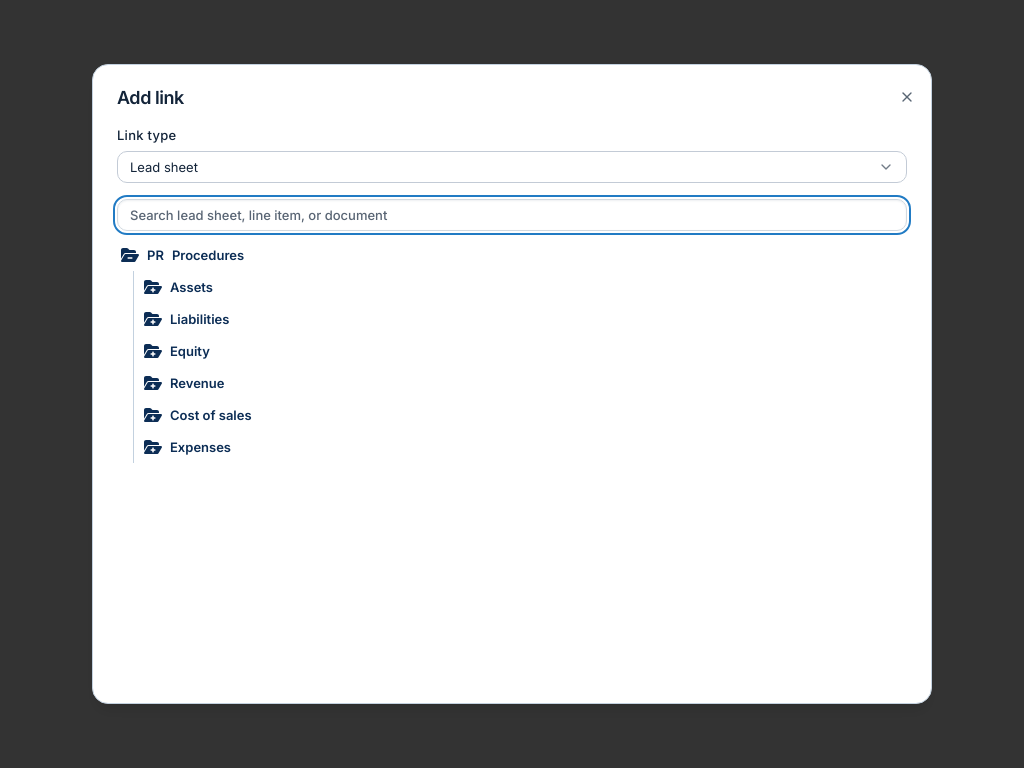
Test case: PdfAddLinkDialog consolidated link picker › keeps identical fixed width and height classes across all five link types, expansions, and empty searches
Earlier steps of the test are not shown.
Later steps or results of the test are not shown.
Click the button "Assets". click: [191, 287]
box: [140,271,903,303]
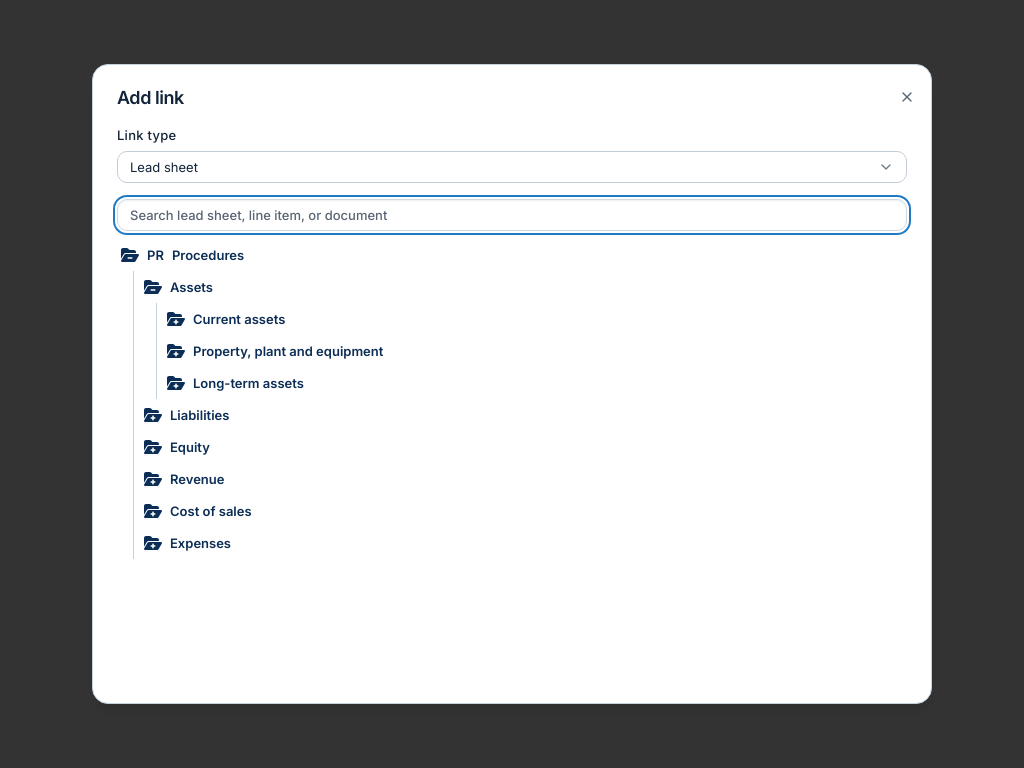
Click the button "Current assets". click: [239, 319]
box: [163,303,903,335]
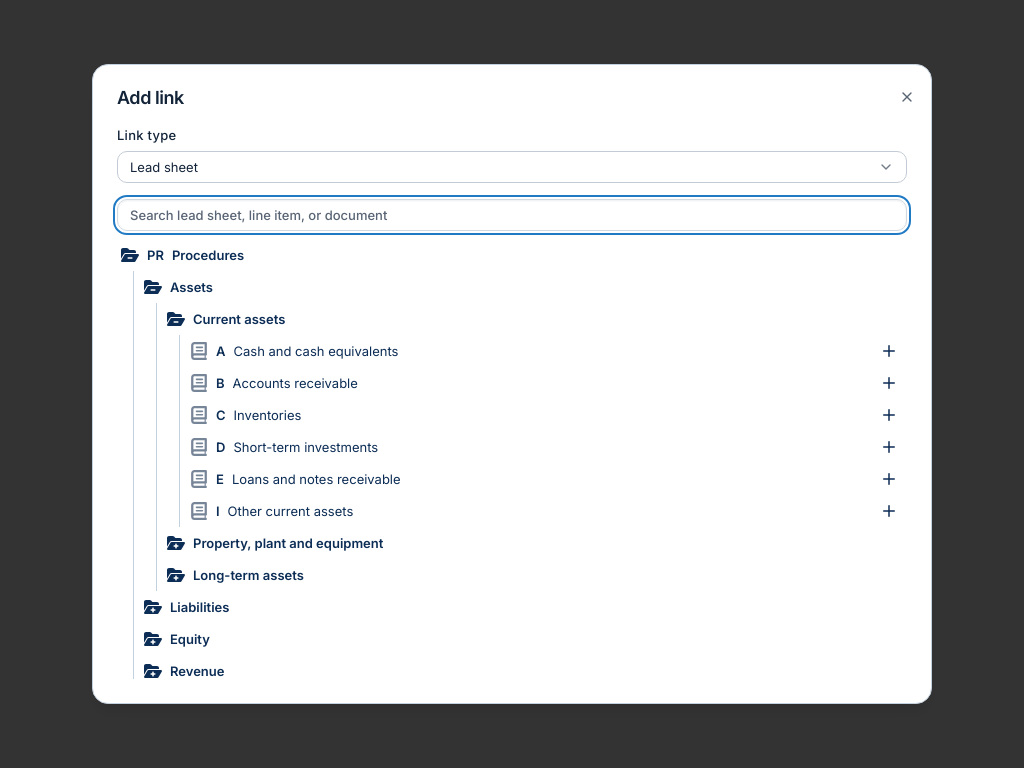
Type "zzzz-no-match" into the field named "Search lead sheets". click: [512, 215]
box: [117,199,907,231]
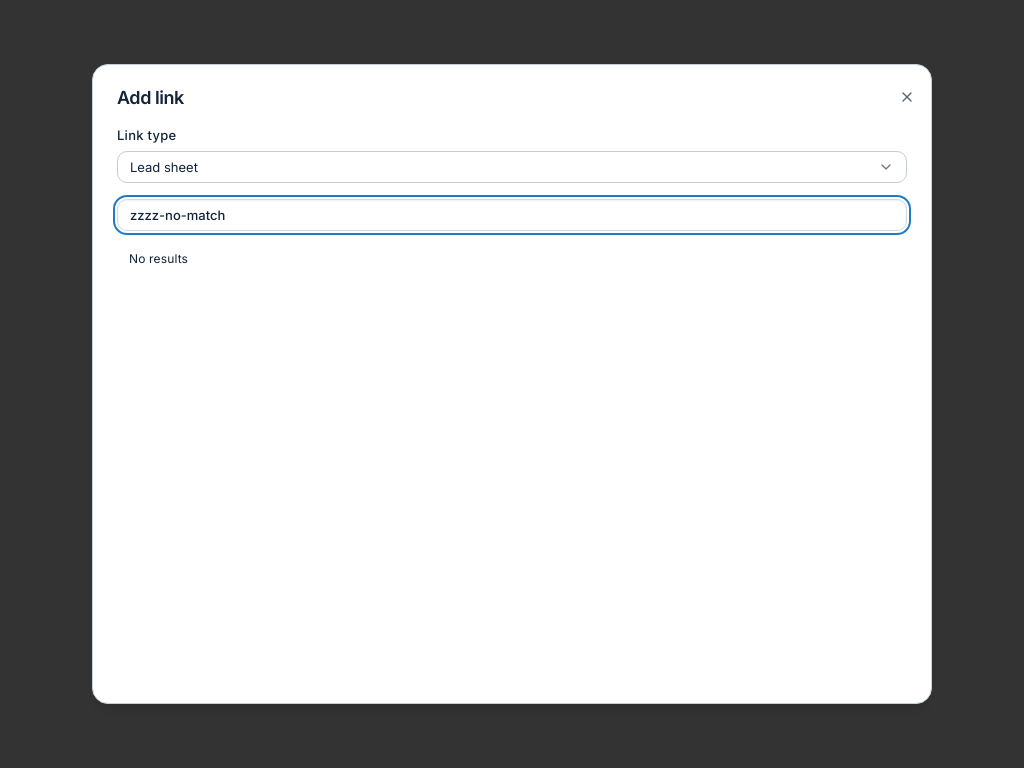
Expected: the text "No results" is shown, [129,251,188,266]
